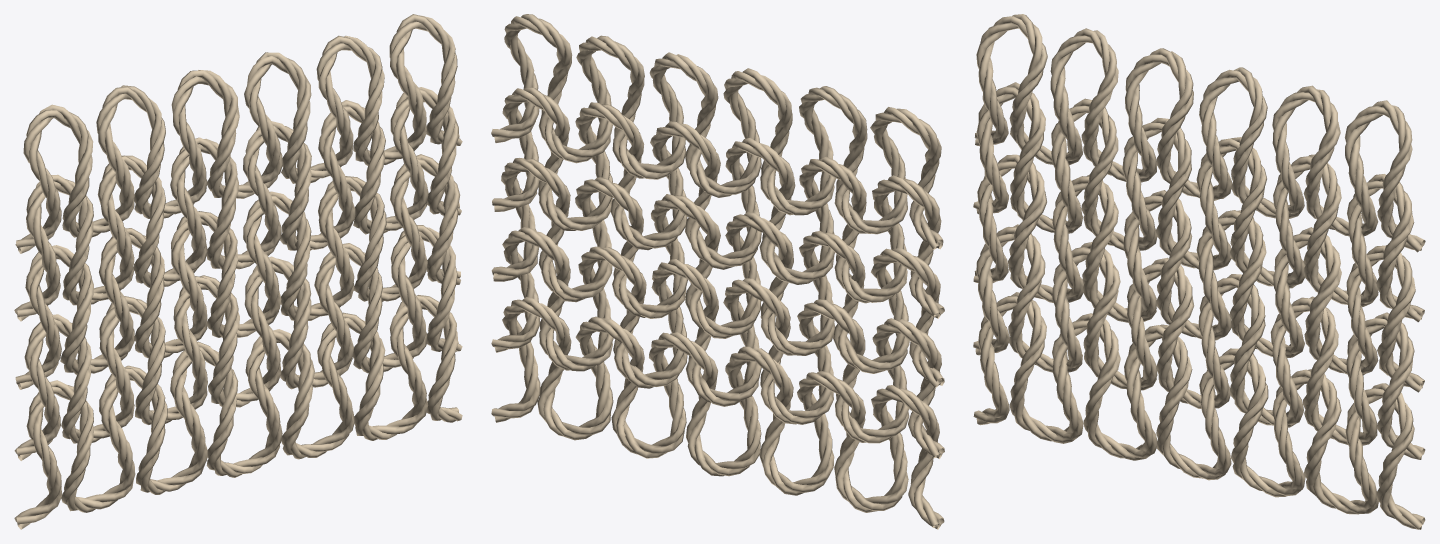
Rendered from knit-lattice-v2-lite.glb.
3 views of the same model, side by side, from view 1: azimuth 30°, elevation 25°; view 2: azimuth 150°, elevation 25°; view 3: azimuth 330°, elevation 25° (orthographic).
Parts seen in each view (by area): view 1: course-5, course-1, course-4, course-3, course-2; view 2: course-5, course-1, course-4, course-2, course-3; view 3: course-5, course-1, course-4, course-2, course-3.
Boxes of the visible parts, x1=… form: course-5: x1=15, y1=14, x2=462, y2=253; course-1: x1=14, y1=295, x2=462, y2=529; course-4: x1=14, y1=87, x2=461, y2=321; course-3: x1=15, y1=154, x2=460, y2=389; course-2: x1=14, y1=225, x2=462, y2=460; course-5: x1=491, y1=14, x2=943, y2=249; course-1: x1=491, y1=297, x2=944, y2=529; course-4: x1=492, y1=87, x2=944, y2=318; course-2: x1=491, y1=226, x2=944, y2=458; course-3: x1=491, y1=158, x2=944, y2=387; course-5: x1=974, y1=14, x2=1425, y2=252; course-1: x1=973, y1=292, x2=1425, y2=529; course-4: x1=973, y1=82, x2=1424, y2=322; course-2: x1=973, y1=224, x2=1425, y2=459; course-3: x1=973, y1=154, x2=1424, y2=392.
Size of the model in its own units: 6.08 by 5.42 by 0.5495.
